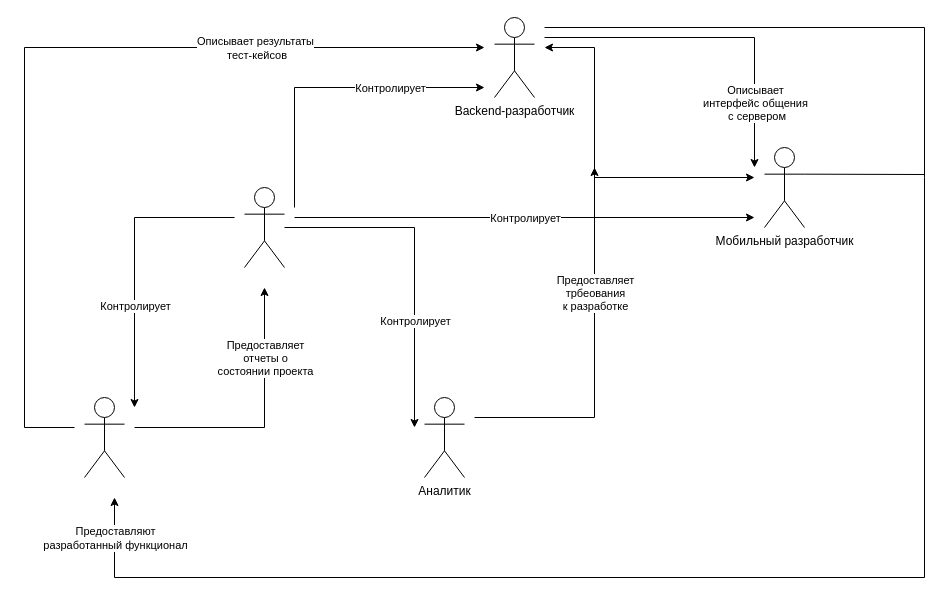
Some shapes in this 943 by 603 pixel diagram are drawn without their labels. The shapes that lost their labels are listed below. From the top down, each one's centre as x and y in pixels, then its label:
point (264, 227): Менеджер проекта
point (104, 437): Тестировщик
